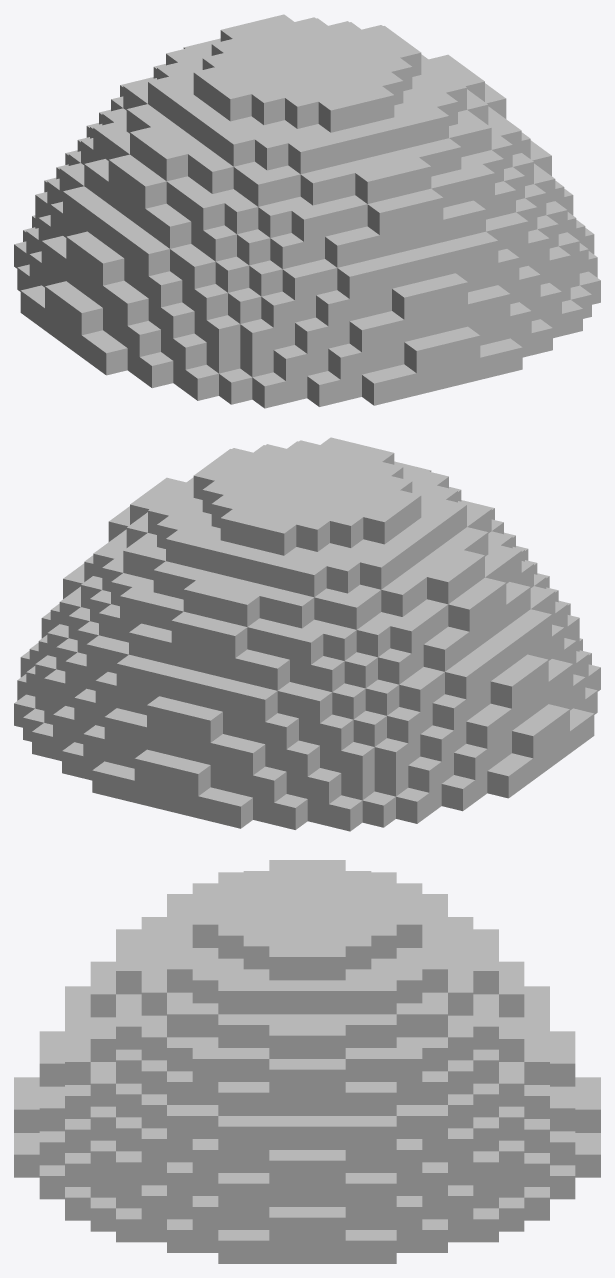
File: TwentyOneModelRoof.fbx
3 renders of one model, top to bottom at view 1: azimuth 30°, elevation 25°; view 2: azimuth 150°, elevation 25°; view 3: azimuth 270°, elevation 25°, orthographic. The views are drawn at different scales.
Visible parts, largest first — view 1: Cylinder; view 2: Cylinder; view 3: Cylinder.
Boxes of the visible parts, x1,y1,x2,y2 form: Cylinder: (14,14,600,408); Cylinder: (14,437,600,831); Cylinder: (14,860,600,1263).
Size of the model in its own units: 23 by 10 by 23.
1 material, 1 textured.
